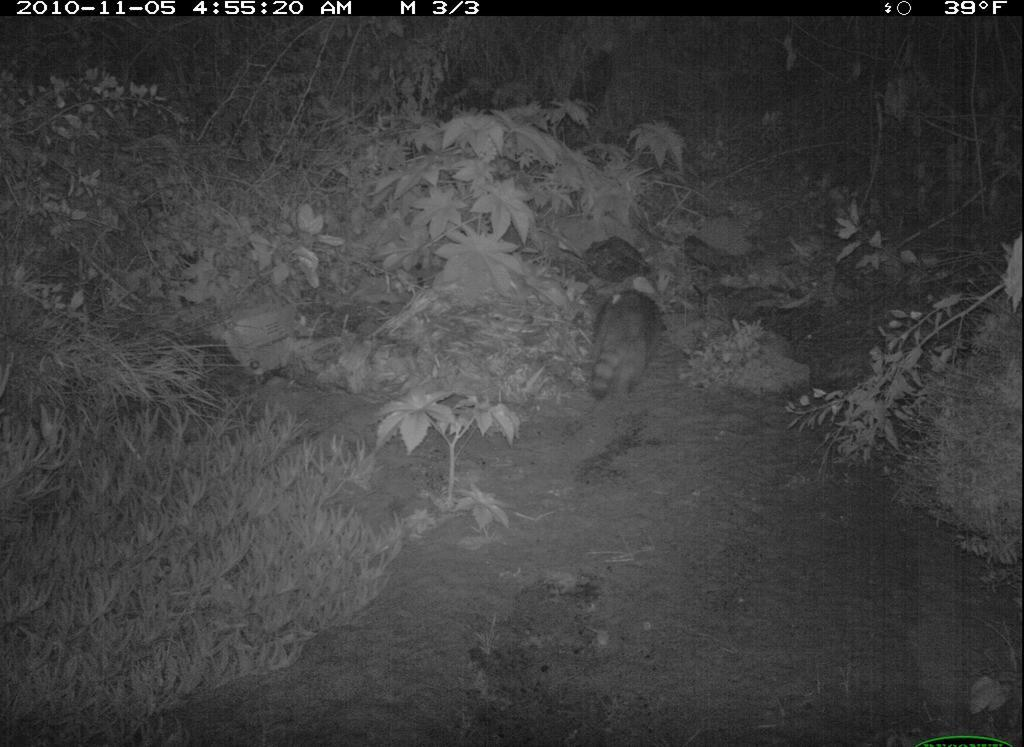raccoon: (575, 248, 673, 408)
